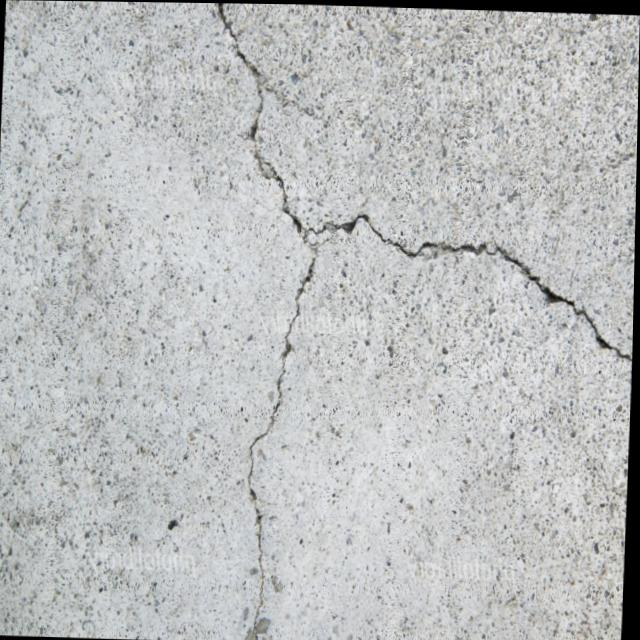Crack: (307, 212, 636, 392), (246, 234, 333, 640), (208, 2, 318, 246)
